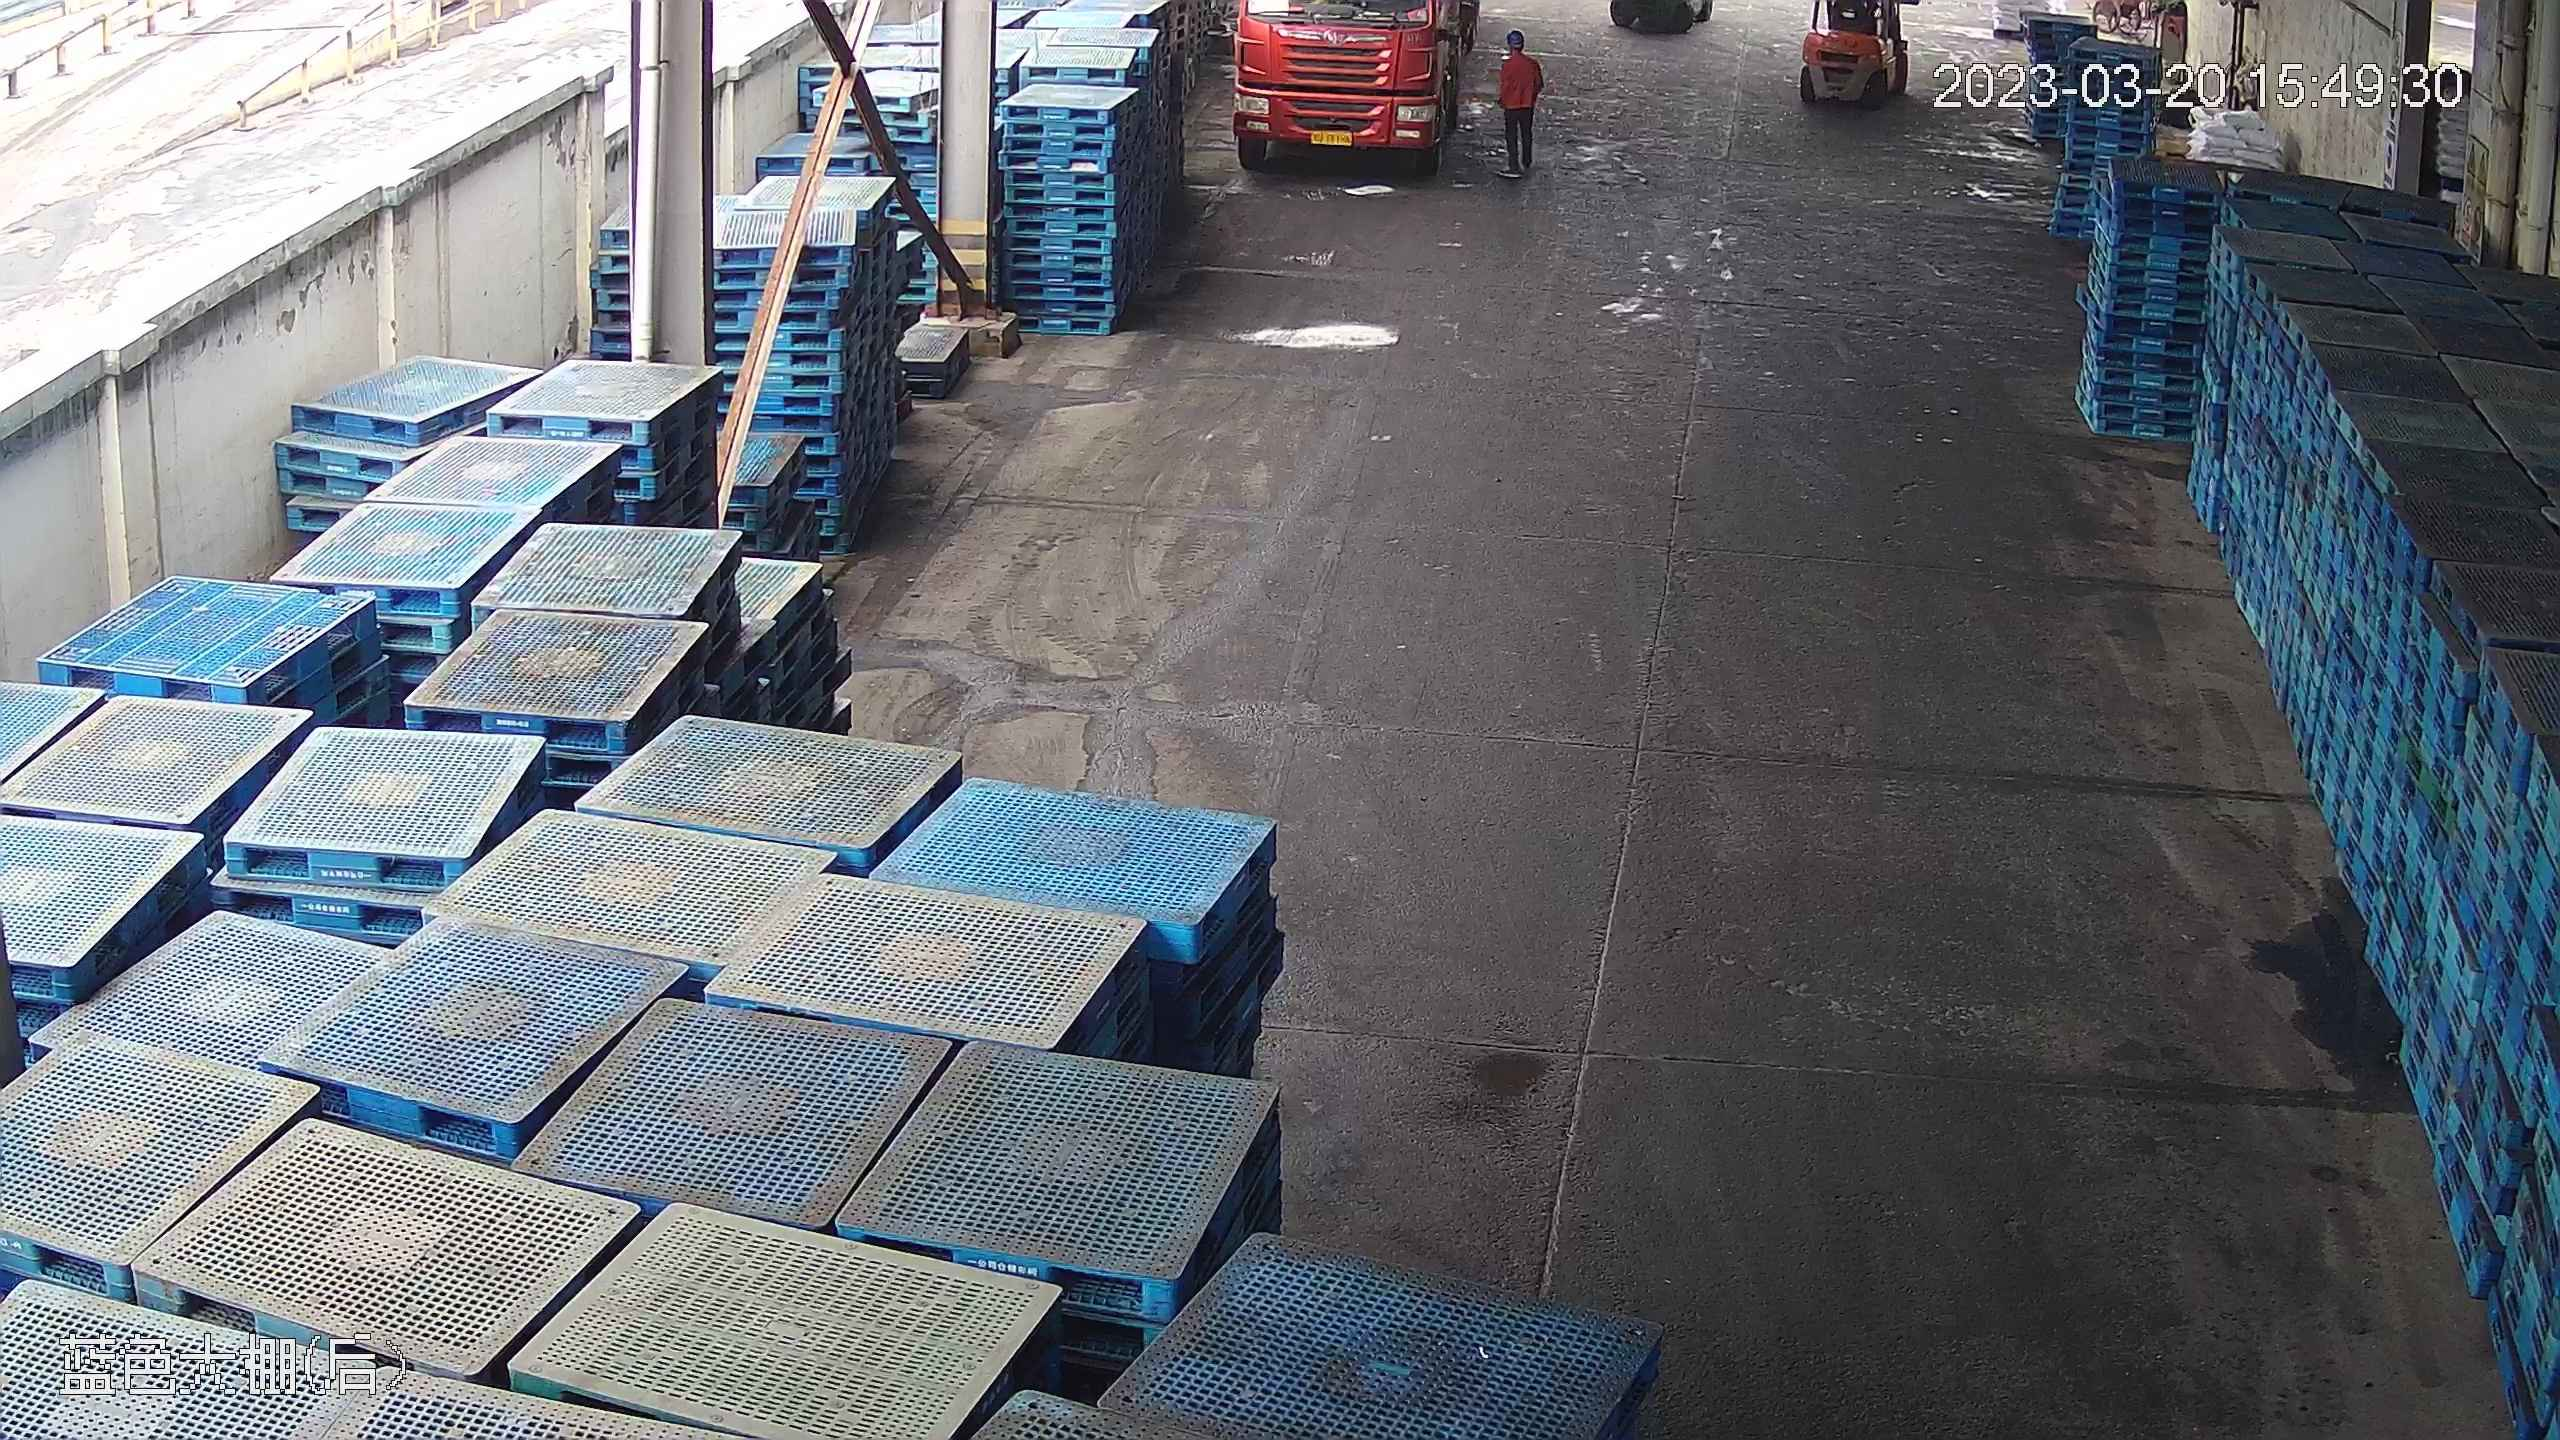head: (1496, 32, 1542, 79)
helmet: (1505, 27, 1527, 49)
people: (1489, 28, 1544, 176)
truck: (1228, 1, 1465, 163)
